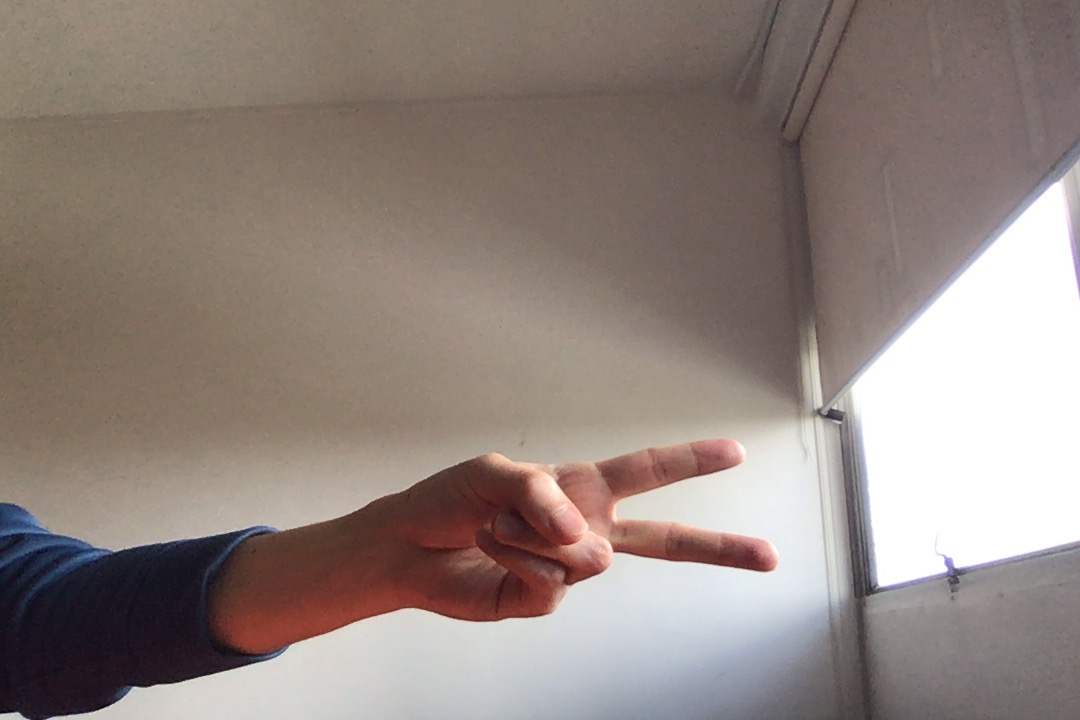peacesign: (390, 427, 792, 631)
